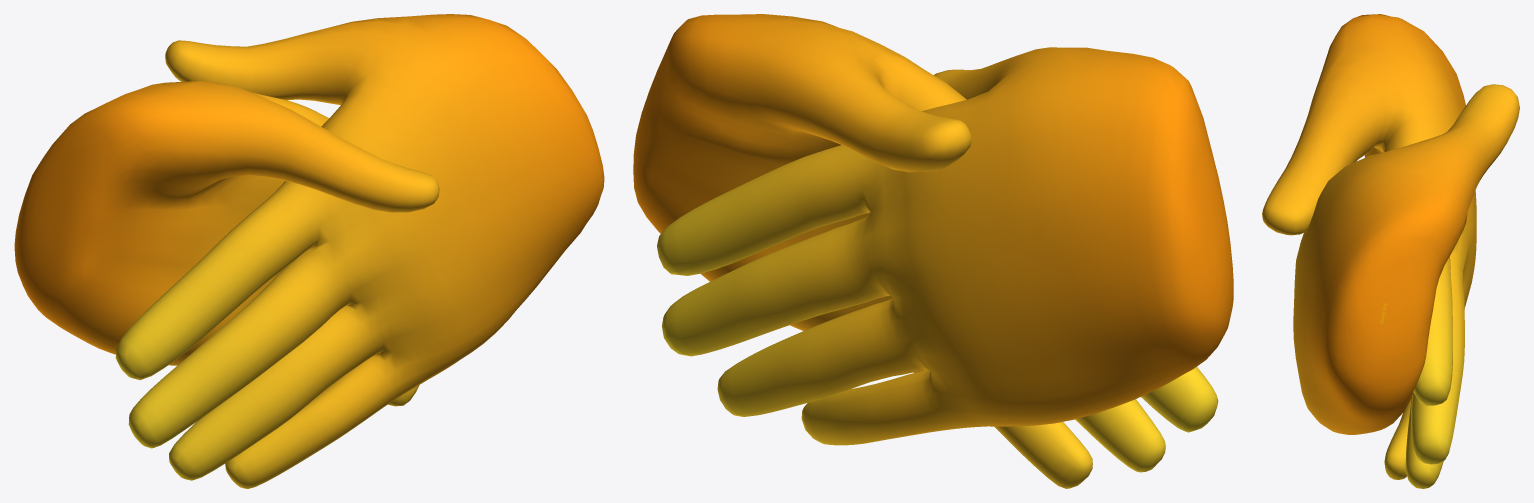
The model's file is handshake.gltf.
3 renders of one model, left to right at view 1: azimuth 30°, elevation 25°; view 2: azimuth 150°, elevation 25°; view 3: azimuth 270°, elevation 25°, orthographic. The views are drawn at different scales.
Visible parts, largest first — view 1: hand.043, hand.045; view 2: hand.045, hand.043; view 3: hand.043, hand.045.
Boxes of the visible parts, bbox=[...] form: hand.043: bbox=[115, 14, 604, 488]; hand.045: bbox=[14, 81, 439, 406]; hand.045: bbox=[657, 47, 1233, 445]; hand.043: bbox=[633, 14, 1218, 488]; hand.043: bbox=[1293, 84, 1519, 434]; hand.045: bbox=[1262, 14, 1476, 488].
Bounding box in the file's own units: 1.9 × 1.34 × 0.878.
2 materials, 2 textured.
